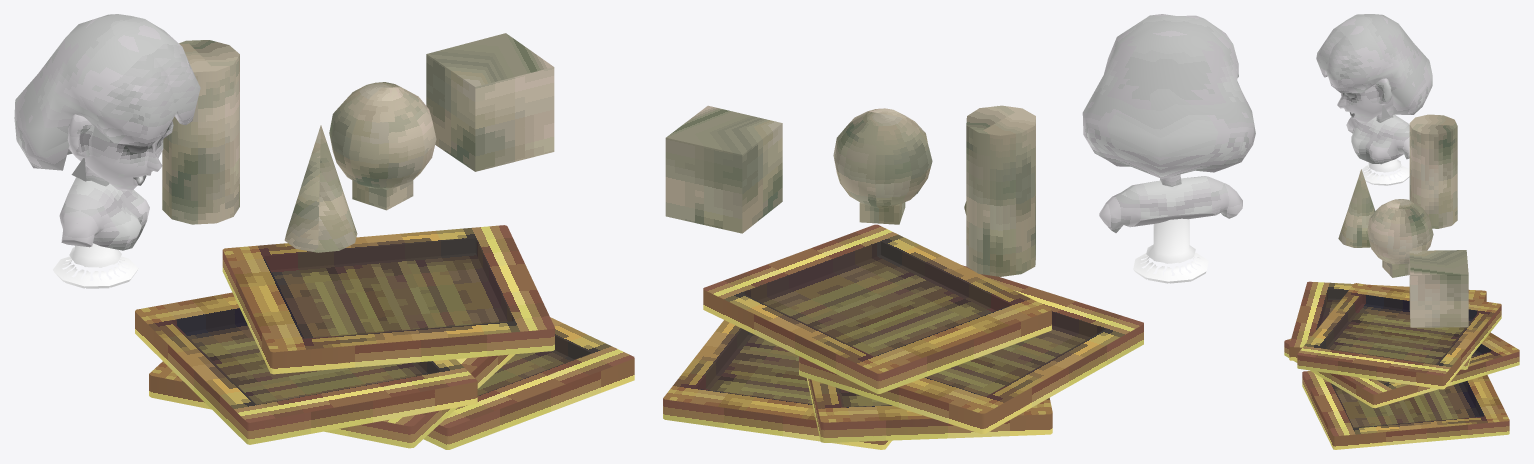
The model's file is mono57_2.glb.
3 views of the same model, side by side, from view 1: azimuth 30°, elevation 25°; view 2: azimuth 150°, elevation 25°; view 3: azimuth 270°, elevation 25° (orthographic). The views are drawn at different scales.
Visible parts, largest first — view 1: mono57_2; view 2: mono57_2; view 3: mono57_2.
Part boxes in pixels (x1,y1,x2,y2): mono57_2: (14, 14, 634, 449); mono57_2: (663, 14, 1255, 449); mono57_2: (1284, 14, 1519, 449).
Bounding box in the file's own units: 413 × 311 × 235.
Materials: 9 (8 with a texture image).
